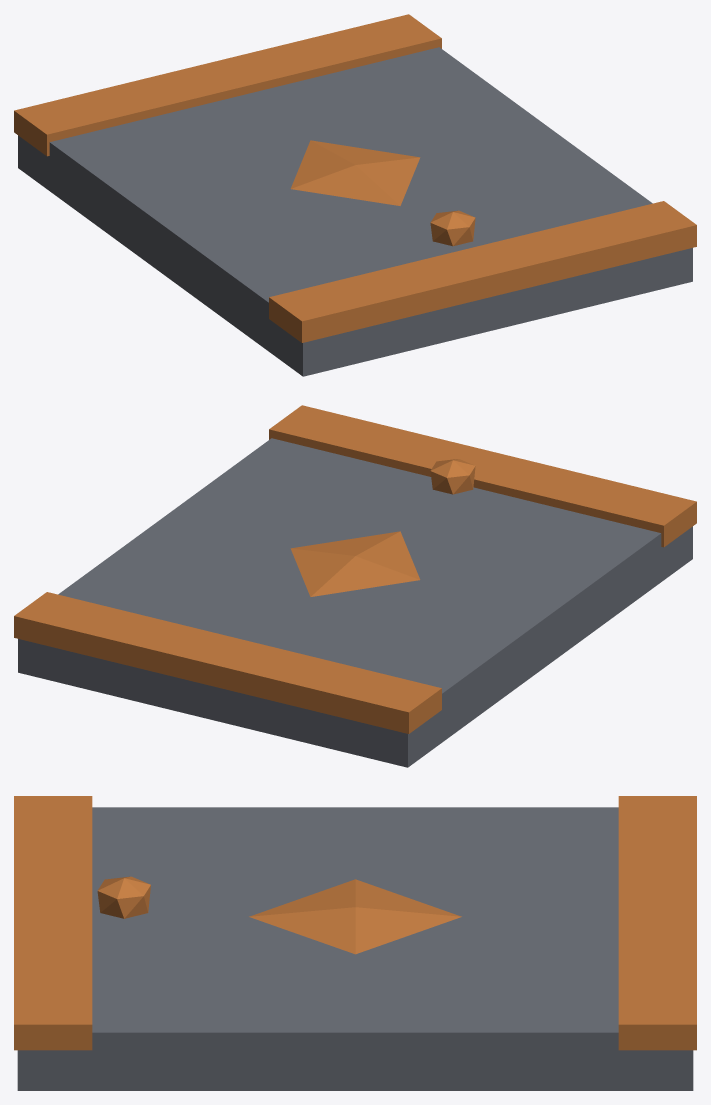
The model's file is drop_cape_mining.glb.
The picture shows the model from 3 angles, top to bottom: view 1: azimuth 30°, elevation 25°; view 2: azimuth 150°, elevation 25°; view 3: azimuth 270°, elevation 25°; orthographic projection. The views are drawn at different scales.
Parts seen in each view (by area): view 1: drop_cape_mining; view 2: drop_cape_mining; view 3: drop_cape_mining.
Part boxes in pixels (x1=…): drop_cape_mining: x1=14, y1=14, x2=696, y2=376; drop_cape_mining: x1=14, y1=405, x2=696, y2=767; drop_cape_mining: x1=14, y1=796, x2=696, y2=1090.
Size of the model in its own units: 0.304 by 0.062 by 0.384.
